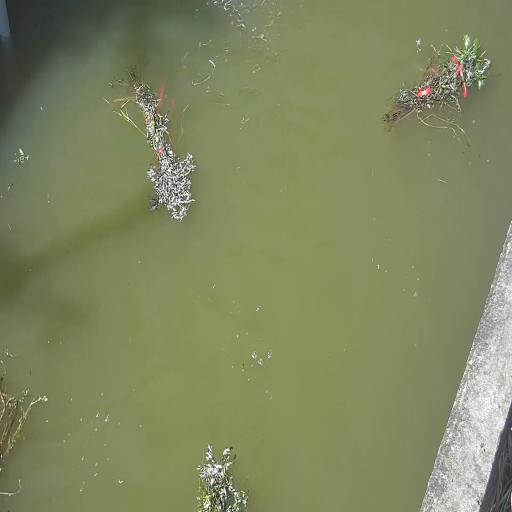twig: (108, 61, 196, 221), (381, 33, 492, 148), (0, 349, 49, 494), (195, 442, 250, 512)
